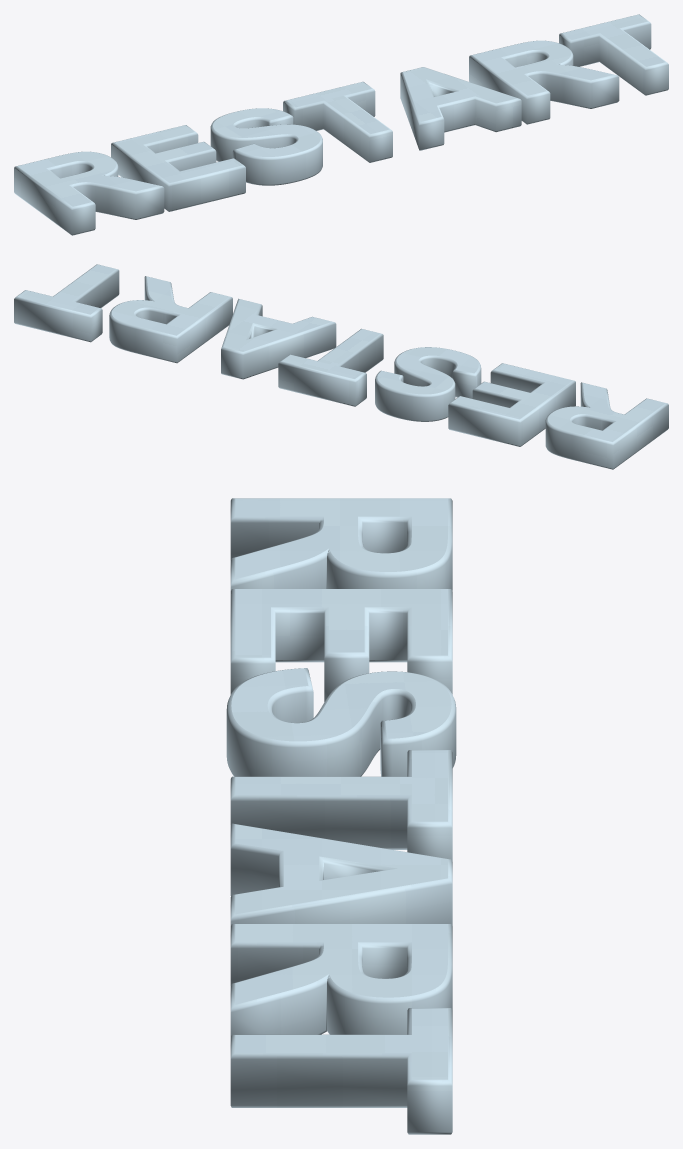
The model's file is pause_restart.obj.
3 renders of one model, top to bottom at view 1: azimuth 30°, elevation 25°; view 2: azimuth 150°, elevation 25°; view 3: azimuth 270°, elevation 25°, orthographic. The views are drawn at different scales.
Visible parts, largest first — view 1: PauseRestart; view 2: PauseRestart; view 3: PauseRestart.
Part boxes in pixels (bbox=[...]): PauseRestart: bbox=[14, 14, 668, 235]; PauseRestart: bbox=[14, 264, 668, 469]; PauseRestart: bbox=[226, 498, 456, 1134].
Size of the model in its own units: 4.6 by 0.2007 by 0.7623.
1 material, 1 textured.
